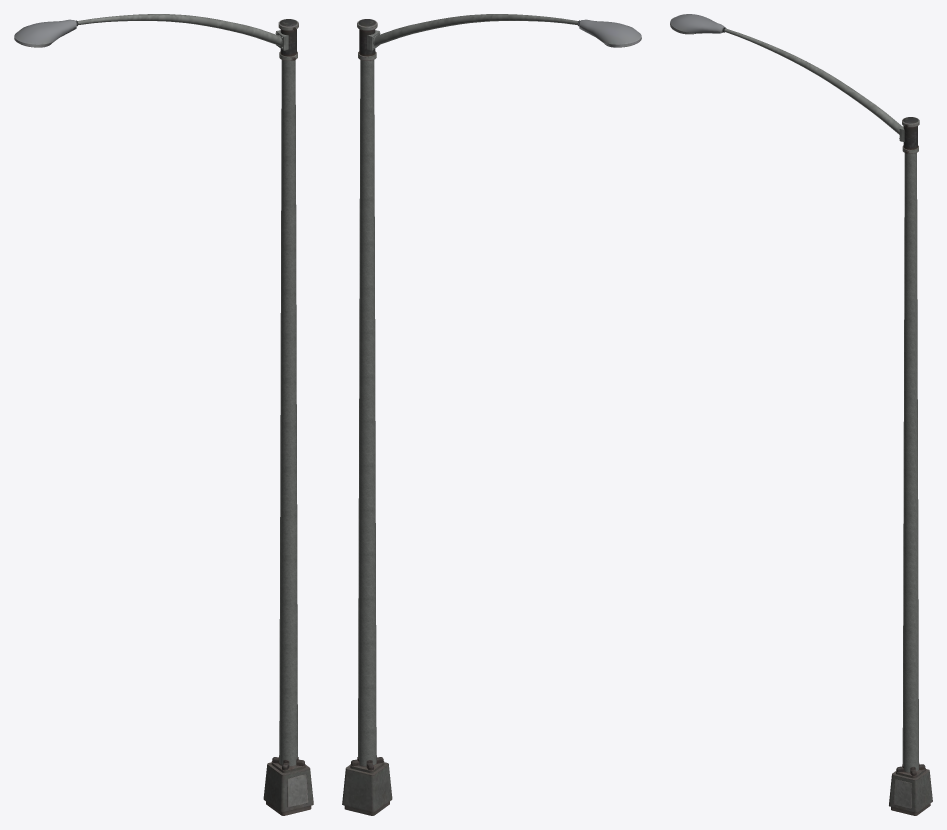
Rendered from led_streetlamp.glb.
3 renders of one model, left to right at view 1: azimuth 30°, elevation 25°; view 2: azimuth 150°, elevation 25°; view 3: azimuth 330°, elevation 25°, orthographic. The views are drawn at different scales.
Visible parts, largest first — view 1: body; view 2: body; view 3: body.
Boxes of the visible parts, left/top/right/bottom form: body: left=14, top=14, right=313, bottom=815; body: left=342, top=14, right=641, bottom=815; body: left=670, top=14, right=932, bottom=815.
Bounding box in the file's own units: 5.29 × 14.72 × 0.6234.
4 materials, 4 textured.
